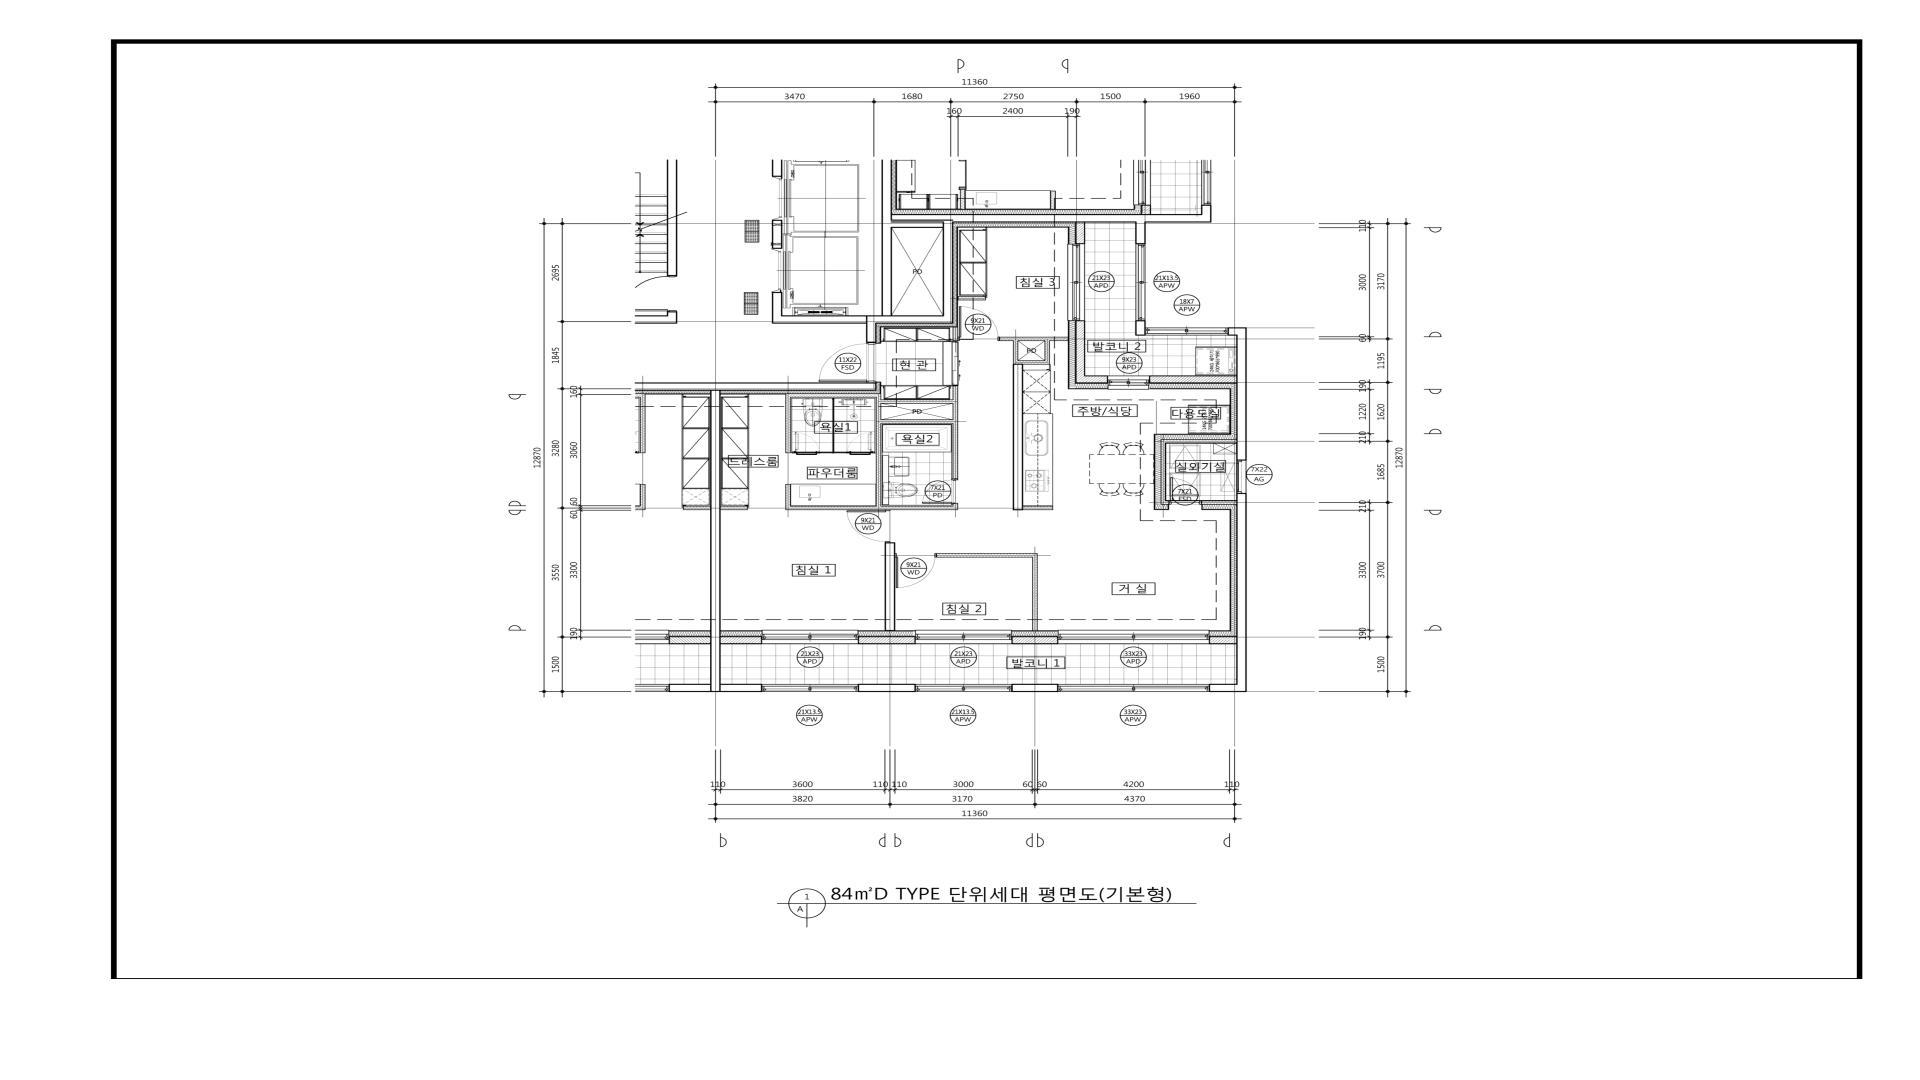door: (819, 343, 876, 382), (634, 276, 678, 311), (957, 306, 1000, 342), (895, 554, 936, 588), (847, 510, 890, 542), (1168, 477, 1201, 505), (922, 479, 957, 504), (791, 431, 818, 455), (849, 431, 876, 455), (952, 342, 959, 386)
wall: (711, 390, 721, 692), (881, 214, 1146, 223), (1236, 493, 1246, 692), (634, 382, 877, 390), (1013, 364, 1023, 510), (782, 315, 953, 323), (1236, 336, 1246, 460), (667, 160, 678, 276), (785, 504, 959, 510), (881, 223, 891, 315), (943, 223, 953, 315), (885, 542, 895, 632), (1149, 376, 1236, 384), (1075, 320, 1085, 384), (876, 397, 881, 506), (1160, 443, 1170, 505), (857, 683, 915, 692), (858, 636, 915, 645), (634, 311, 678, 323), (952, 386, 957, 479), (1011, 636, 1059, 645), (1011, 683, 1059, 692), (936, 554, 1038, 558), (1033, 558, 1038, 632), (721, 636, 762, 645), (786, 393, 881, 397), (1000, 336, 1069, 342), (721, 684, 762, 692), (771, 293, 782, 323), (771, 220, 782, 249), (1160, 439, 1237, 443), (786, 397, 791, 454), (881, 400, 953, 404), (881, 419, 952, 423), (891, 223, 943, 228), (1209, 636, 1237, 645), (1075, 223, 1085, 244), (1135, 223, 1146, 244), (1209, 684, 1236, 692), (1201, 500, 1237, 505), (866, 323, 876, 343), (771, 160, 782, 177), (1085, 376, 1108, 384), (1228, 327, 1246, 336), (1023, 505, 1054, 510), (1135, 320, 1145, 336), (832, 397, 835, 451), (785, 484, 791, 505), (1044, 340, 1050, 364), (1013, 360, 1044, 364), (956, 297, 986, 301), (720, 506, 748, 510), (1013, 340, 1018, 360), (952, 327, 959, 342), (818, 451, 849, 454)
window: (1058, 630, 1209, 645), (915, 629, 1011, 645), (1067, 244, 1085, 320), (762, 630, 858, 645), (1059, 683, 1209, 692), (915, 683, 1011, 692), (1135, 244, 1146, 320), (1145, 327, 1228, 336), (762, 684, 858, 692), (1108, 376, 1150, 389), (1237, 460, 1246, 493)
